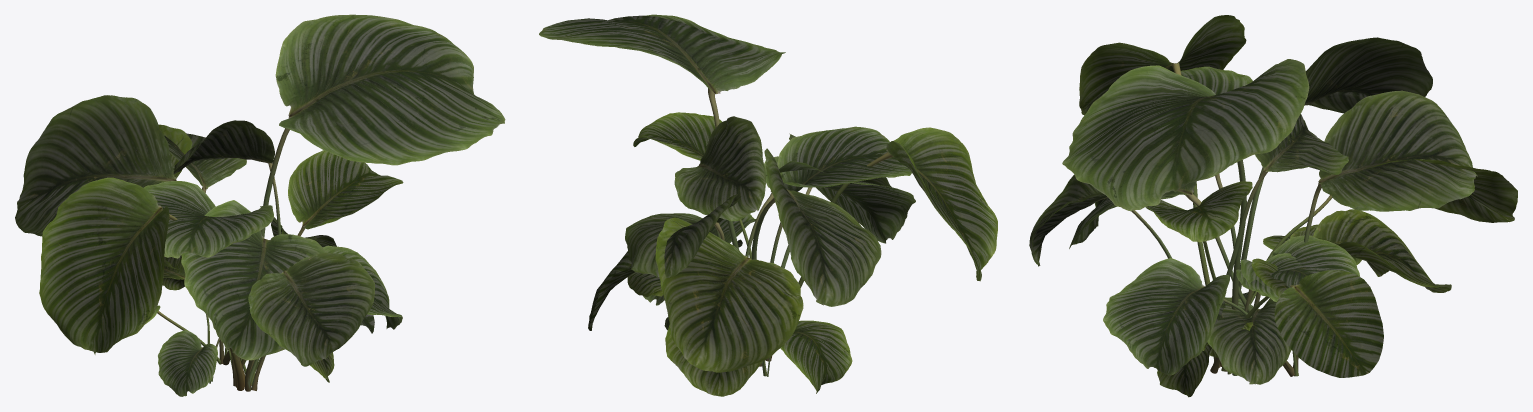
The model's file is calathea_orbifolia_01.fbx.
3 views of the same model, side by side, from view 1: azimuth 30°, elevation 25°; view 2: azimuth 150°, elevation 25°; view 3: azimuth 270°, elevation 25° (orthographic). The views are drawn at different scales.
Visible parts, largest first — view 1: calathea_orbifolia_01_a, calathea_orbifolia_01_b, calathea_orbifolia_01_c, calathea_orbifolia_01_d, calathea_orbifolia_01_e; view 2: calathea_orbifolia_01_a, calathea_orbifolia_01_b, calathea_orbifolia_01_c; view 3: calathea_orbifolia_01_a, calathea_orbifolia_01_b, calathea_orbifolia_01_c, calathea_orbifolia_01_d, calathea_orbifolia_01_e.
Part boxes in pixels (<box>): calathea_orbifolia_01_a: <box>15,14,505,391</box>; calathea_orbifolia_01_b: <box>94,133,402,365</box>; calathea_orbifolia_01_c: <box>144,150,403,386</box>; calathea_orbifolia_01_d: <box>158,272,220,396</box>; calathea_orbifolia_01_e: <box>163,255,334,386</box>; calathea_orbifolia_01_a: <box>539,14,997,372</box>; calathea_orbifolia_01_b: <box>625,156,915,393</box>; calathea_orbifolia_01_c: <box>633,112,912,396</box>; calathea_orbifolia_01_a: <box>1029,15,1517,377</box>; calathea_orbifolia_01_b: <box>1069,90,1477,376</box>; calathea_orbifolia_01_c: <box>1145,66,1451,358</box>; calathea_orbifolia_01_d: <box>1207,291,1291,384</box>; calathea_orbifolia_01_e: <box>1157,224,1389,397</box>.
Bounding box in the file's own units: 0.6006 × 0.4243 × 0.5256.
Materials: 1 (1 with a texture image).
